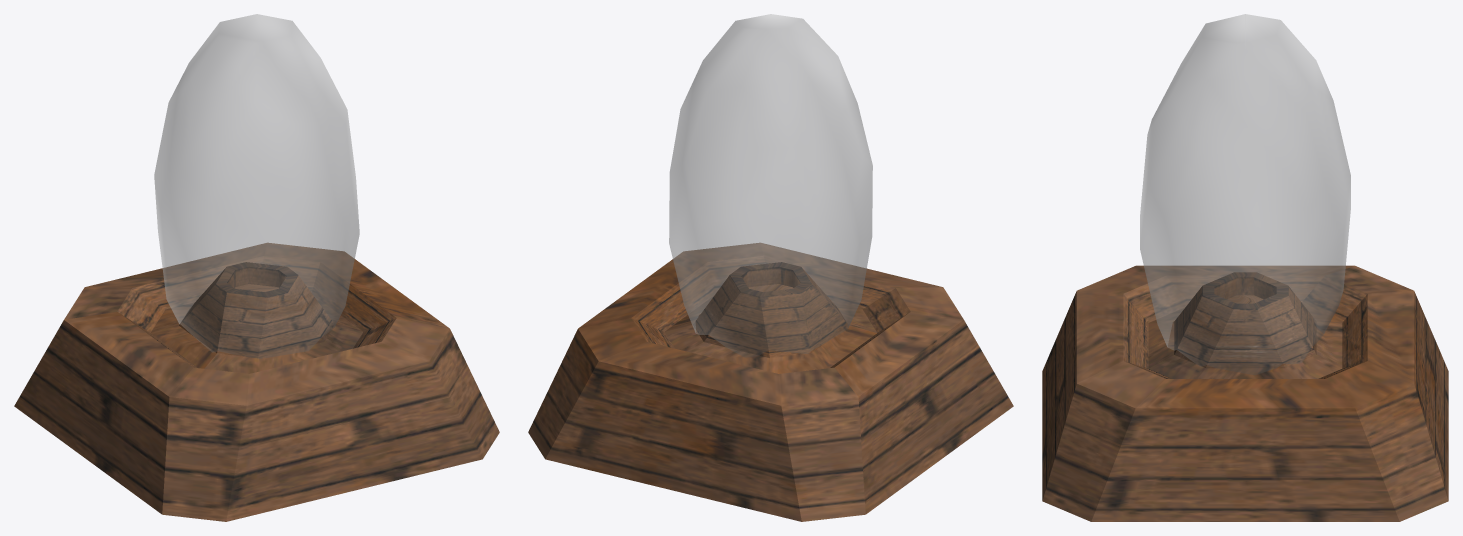
The model's file is gem_blue.fbx.
3 renders of one model, left to right at view 1: azimuth 30°, elevation 25°; view 2: azimuth 150°, elevation 25°; view 3: azimuth 270°, elevation 25°, orthographic. The views are drawn at different scales.
Parts seen in each view (by area): view 1: smd_mesh348, pSolid1; view 2: smd_mesh348, pSolid1; view 3: smd_mesh348, pSolid1.
Part boxes in pixels (bbox=[...]): smd_mesh348: bbox=[14, 243, 499, 521]; pSolid1: bbox=[154, 14, 359, 358]; smd_mesh348: bbox=[528, 243, 1013, 521]; pSolid1: bbox=[669, 14, 872, 357]; smd_mesh348: bbox=[1042, 265, 1448, 521]; pSolid1: bbox=[1140, 14, 1350, 374].
Size of the model in its own units: 256 by 294 by 256.
